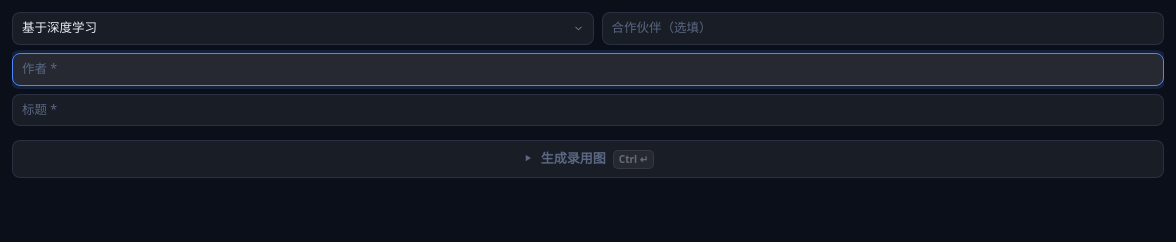
RecordForm（拆分后） › 填全表单后提交：本地服务不可达时落到失败结果条，busy 成对回 false
Type "李四" into the field with placeholder "作者 *" at (588, 69), box [12,53,1164,86]
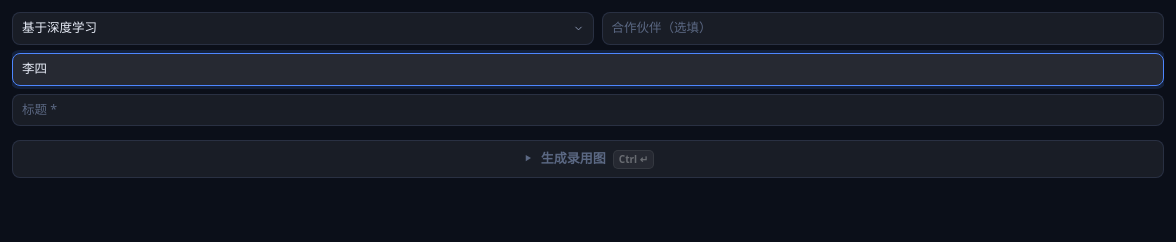
Type "基于深度学习的图像分割方法研究" into the field with placeholder "标题 *" at (588, 110), box [12,94,1164,126]
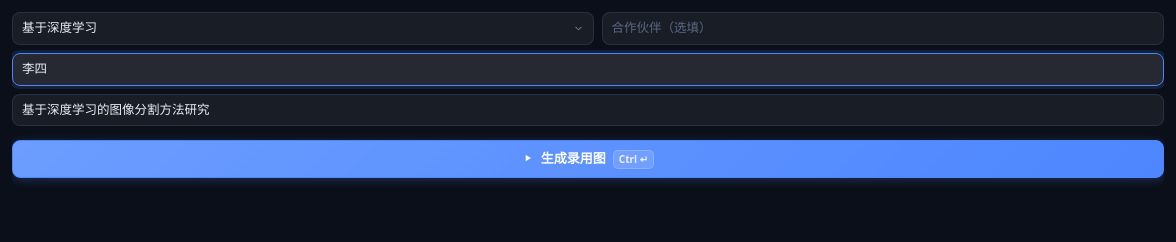
Now the button "生成录用图 Ctrl ↵" is enabled
Click the button "生成录用图 Ctrl ↵" at (588, 159), box [12,140,1164,178]
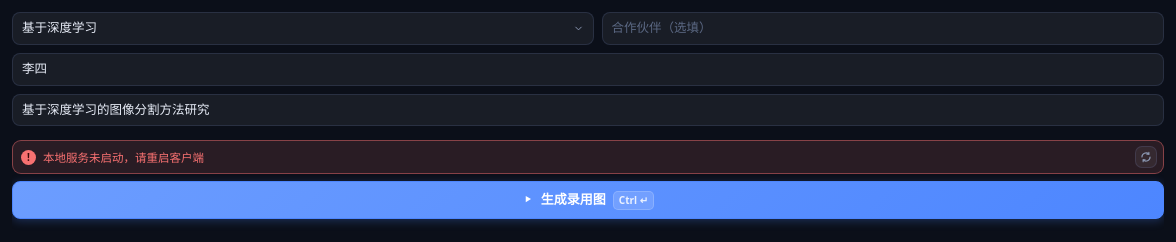
Now the element with class "fail" is shown, box [12,140,1164,174]
Now the text with class "rb-msg" shows "本地服务未启动", box [43,150,204,165]
